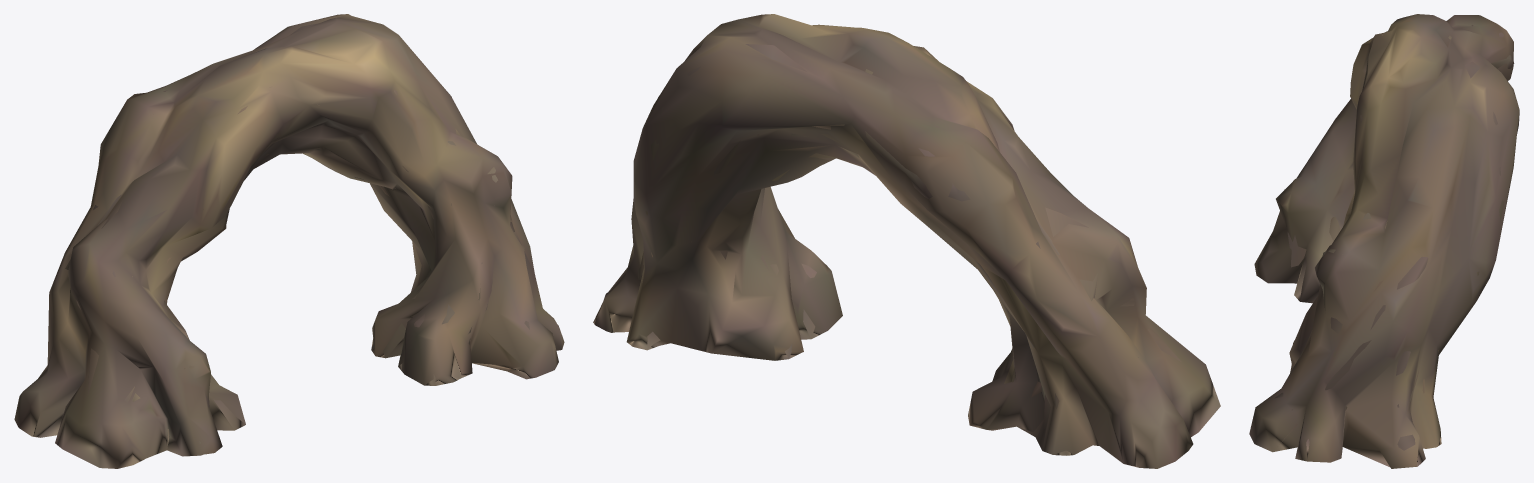
The model's file is RootArch_game.glb.
The picture shows the model from 3 angles, left to right: view 1: azimuth 30°, elevation 25°; view 2: azimuth 150°, elevation 25°; view 3: azimuth 270°, elevation 25°; orthographic projection. The views are drawn at different scales.
Visible parts, largest first — view 1: RootArch; view 2: RootArch; view 3: RootArch.
Boxes of the visible parts, x1,y1,x2,y2 form: RootArch: [14, 14, 564, 468]; RootArch: [593, 14, 1220, 468]; RootArch: [1249, 14, 1519, 468].
Size of the model in its own units: 1.03 by 0.6101 by 0.465.
